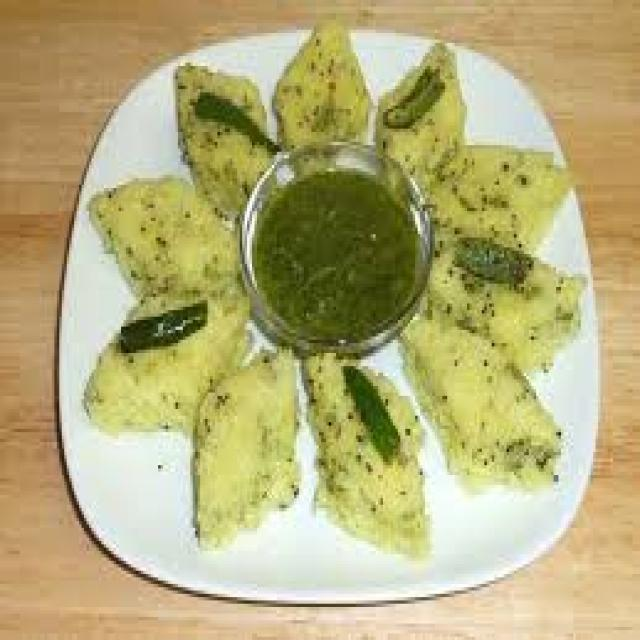DHOKLA: (77, 284, 255, 447), (401, 327, 568, 490), (429, 228, 584, 381), (192, 355, 298, 558), (307, 363, 422, 541), (93, 171, 235, 289), (180, 59, 270, 223), (420, 149, 571, 239), (273, 7, 370, 141), (383, 43, 464, 200)
